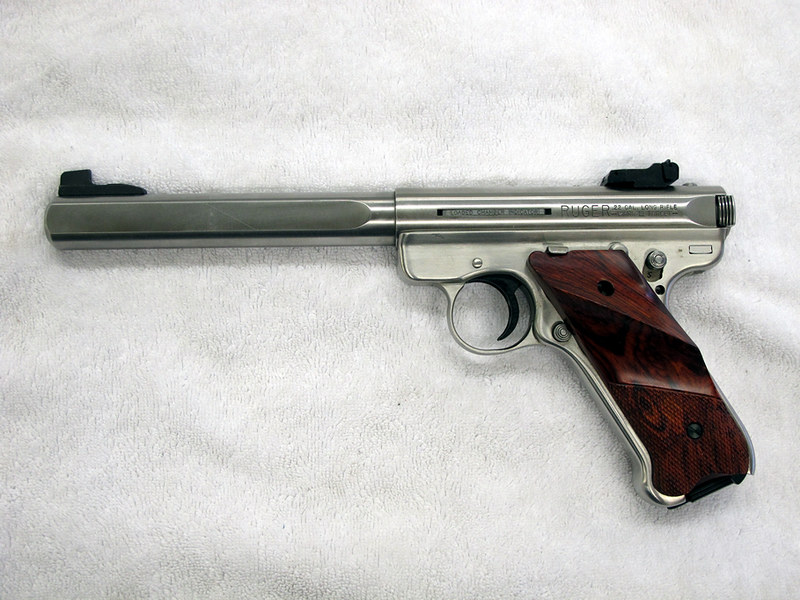gun: (29, 156, 768, 521)
